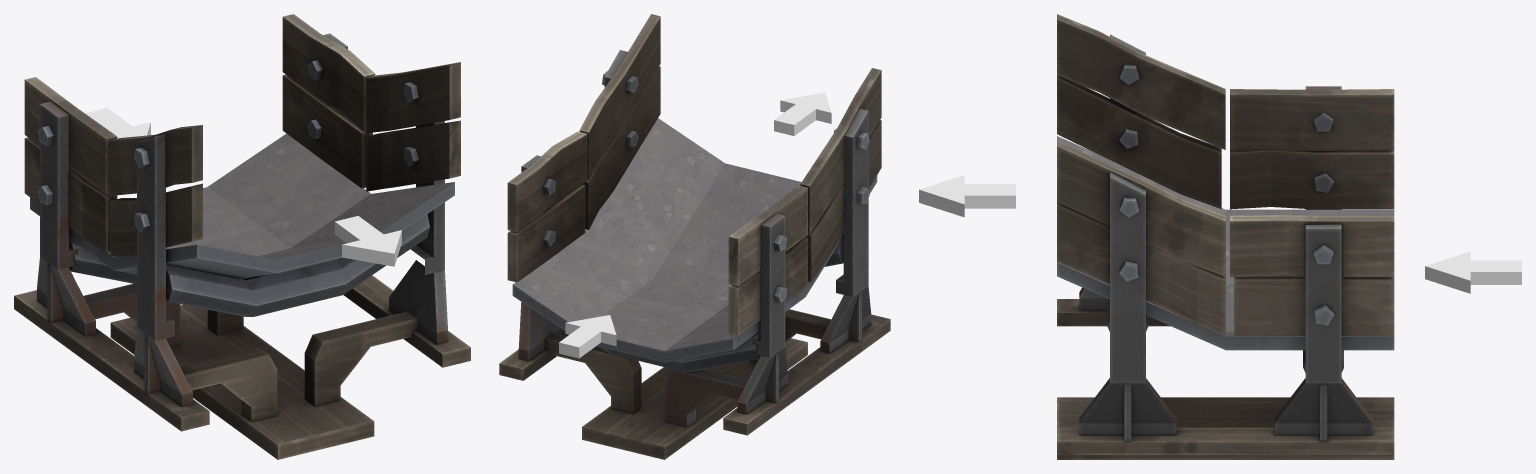
File: WallConveyorLedge.glb
3 views of the same model, side by side, from view 1: azimuth 30°, elevation 25°; view 2: azimuth 150°, elevation 25°; view 3: azimuth 270°, elevation 25° (orthographic). The views are drawn at different scales.
Parts seen in each view (by area): view 1: WallConveyorLedge, ghostarrow, ghostarrow (1); view 2: WallConveyorLedge, ghostarrow (1), ghostarrow; view 3: WallConveyorLedge, ghostarrow (1), ghostarrow.
Boxes of the visible parts, <box> form: WallConveyorLedge: <box>14,14,470,459</box>; ghostarrow: <box>334,216,401,266</box>; ghostarrow (1): <box>85,108,150,138</box>; WallConveyorLedge: <box>499,14,890,459</box>; ghostarrow (1): <box>559,315,616,358</box>; ghostarrow: <box>774,92,831,135</box>; WallConveyorLedge: <box>1057,14,1394,459</box>; ghostarrow (1): <box>1425,251,1521,293</box>; ghostarrow: <box>919,175,1015,217</box>.
Size of the model in its own units: 1.05 by 1.17 by 1.79.
Materials: 3 (2 with a texture image).
